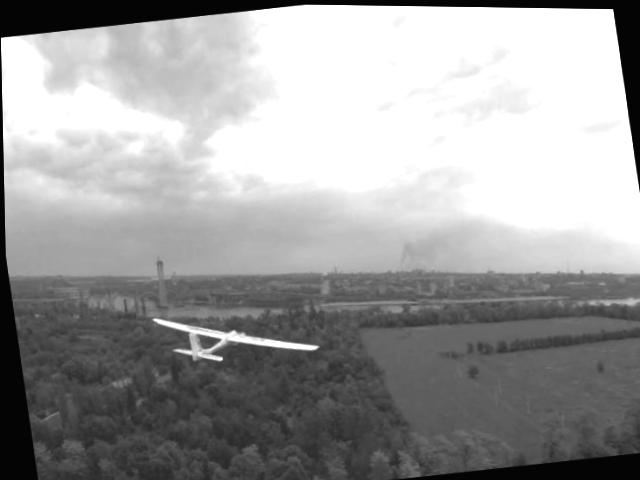hedef: (136, 288, 308, 396)
